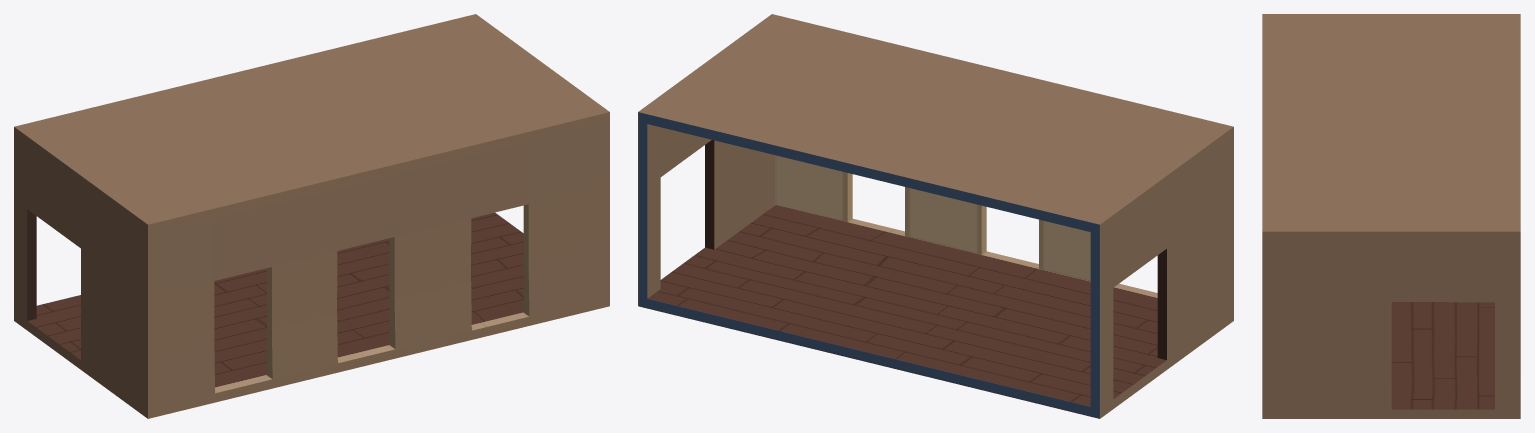
Rendered from Hallway2UP_3Doors.fbx.
The picture shows the model from 3 angles, left to right: view 1: azimuth 30°, elevation 25°; view 2: azimuth 150°, elevation 25°; view 3: azimuth 270°, elevation 25°; orthographic projection. The views are drawn at different scales.
Parts seen in each view (by area): view 1: up3door; view 2: up3door; view 3: up3door.
Part boxes in pixels (x1,y1,x2,y2): up3door: (14, 14, 609, 418); up3door: (638, 14, 1233, 418); up3door: (1262, 14, 1520, 418).
Size of the model in its own units: 996 by 400 by 500.
